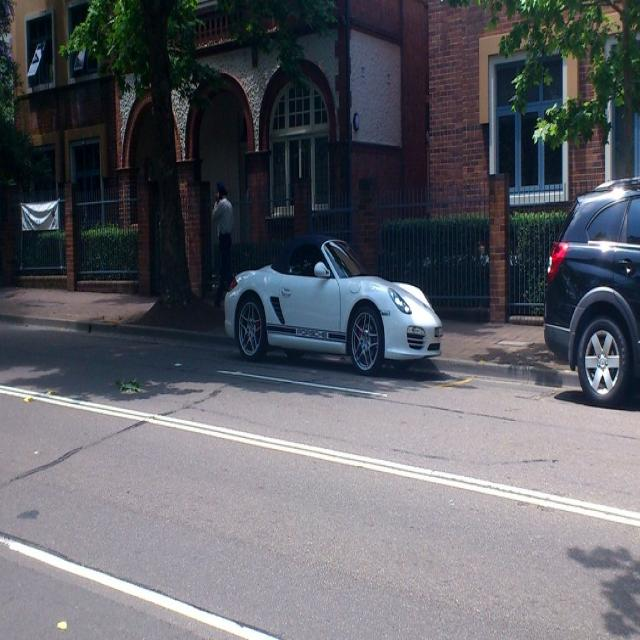car: (220, 228, 446, 385)
